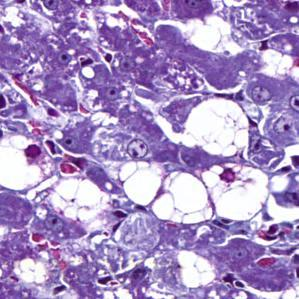ballooning: (118, 155, 216, 230), (176, 92, 257, 160), (198, 155, 273, 223), (3, 132, 55, 197), (49, 171, 111, 225)
